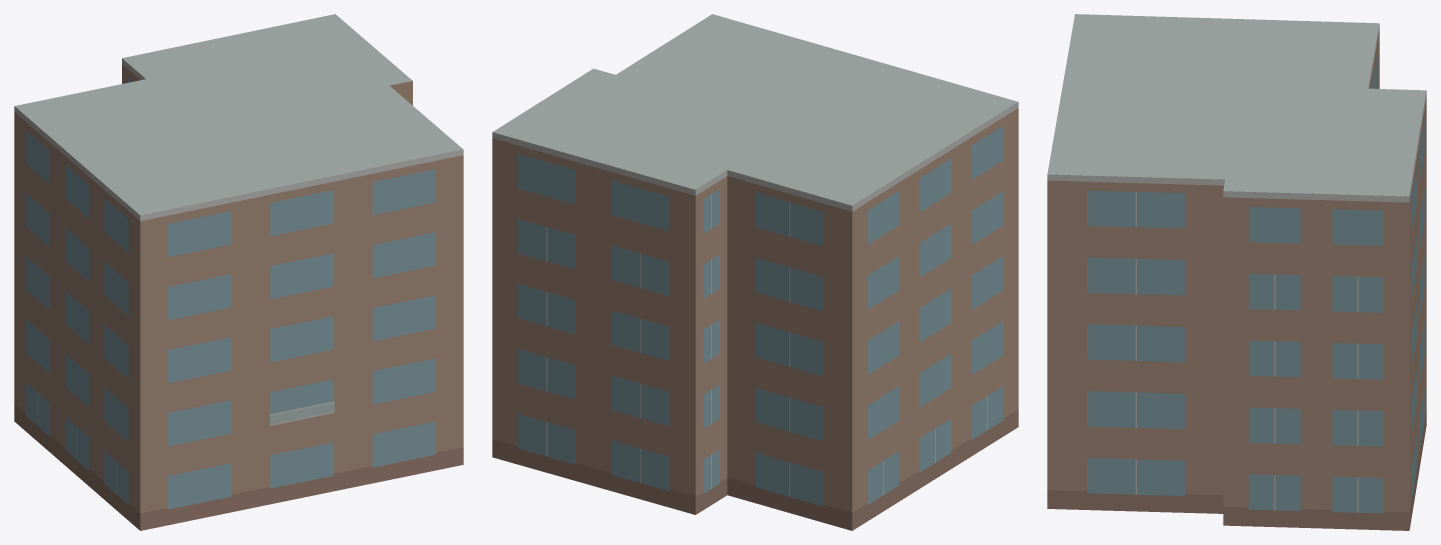
The model's file is survey-upis-32775144.glb.
3 views of the same model, side by side, from view 1: azimuth 30°, elevation 25°; view 2: azimuth 150°, elevation 25°; view 3: azimuth 270°, elevation 25° (orthographic). The views are drawn at different scales.
Parts seen in each view (by area): view 1: survey-upis-32775144.tmp; view 2: survey-upis-32775144.tmp; view 3: survey-upis-32775144.tmp.
Part boxes in pixels (x1,y1,x2,y2): survey-upis-32775144.tmp: (14, 14, 463, 530); survey-upis-32775144.tmp: (492, 14, 1018, 530); survey-upis-32775144.tmp: (1047, 14, 1426, 530).
Size of the model in its own units: 15.64 by 13.35 by 13.73.
